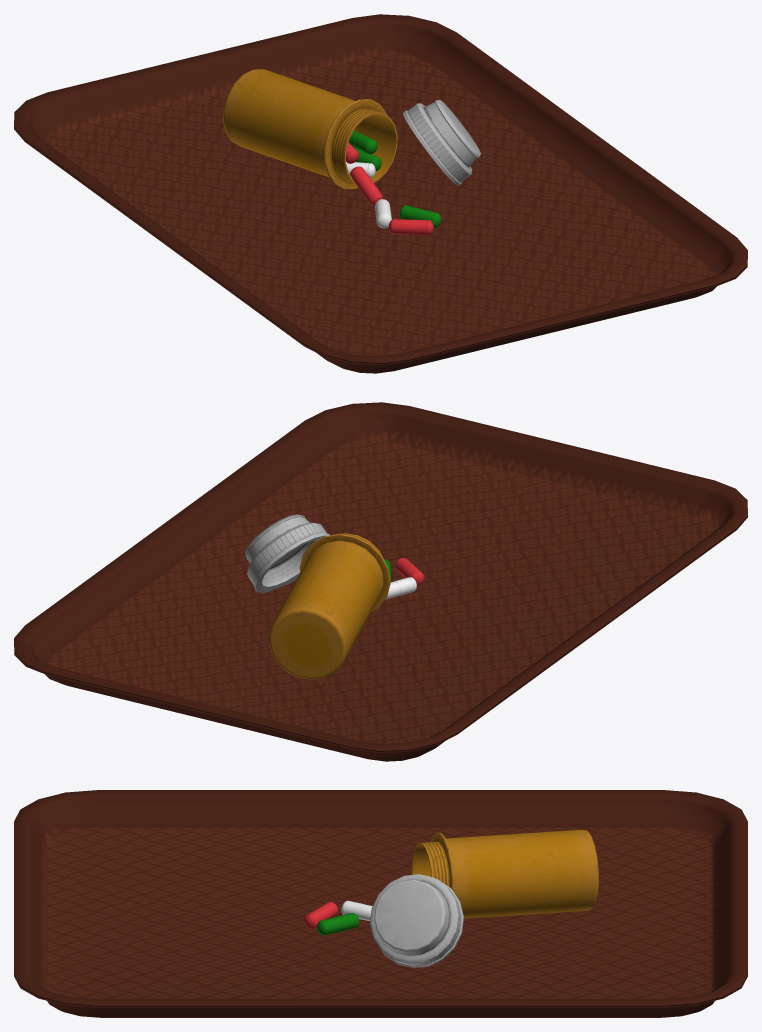
File: Tray & Pill.fbx
3 views of the same model, one above another, from view 1: azimuth 30°, elevation 25°; view 2: azimuth 150°, elevation 25°; view 3: azimuth 270°, elevation 25° (orthographic).
Visible parts, largest first — view 1: Object_4, Pills_Low001_01 - Default_0, Pills_Low001_01 - Default_0.001, Red Pill, Pill3.006; view 2: Object_4, Pills_Low001_01 - Default_0, Pills_Low001_01 - Default_0.001; view 3: Object_4, Pills_Low001_01 - Default_0, Pills_Low001_01 - Default_0.001, Green Pill, Red Pill, White Pill.
Boxes of the visible parts, left/top/right/bottom form: Object_4: left=14, top=14, right=747, bottom=373; Pills_Low001_01 - Default_0: left=223, top=69, right=397, bottom=189; Pills_Low001_01 - Default_0.001: left=402, top=100, right=480, bottom=185; Red Pill: left=389, top=219, right=433, bottom=235; Pill3.006: left=350, top=166, right=382, bottom=205; Object_4: left=14, top=402, right=747, bottom=761; Pills_Low001_01 - Default_0: left=269, top=533, right=390, bottom=679; Pills_Low001_01 - Default_0.001: left=245, top=514, right=329, bottom=593; Object_4: left=14, top=790, right=747, bottom=1017; Pills_Low001_01 - Default_0: left=412, top=829, right=598, bottom=918; Pills_Low001_01 - Default_0.001: left=370, top=874, right=463, bottom=967; Green Pill: left=317, top=913, right=359, bottom=935; Red Pill: left=304, top=902, right=337, bottom=928; White Pill: left=341, top=900, right=372, bottom=920.
Size of the model in its own units: 44.08 by 8.82 by 63.99.
1 material, 1 textured.
